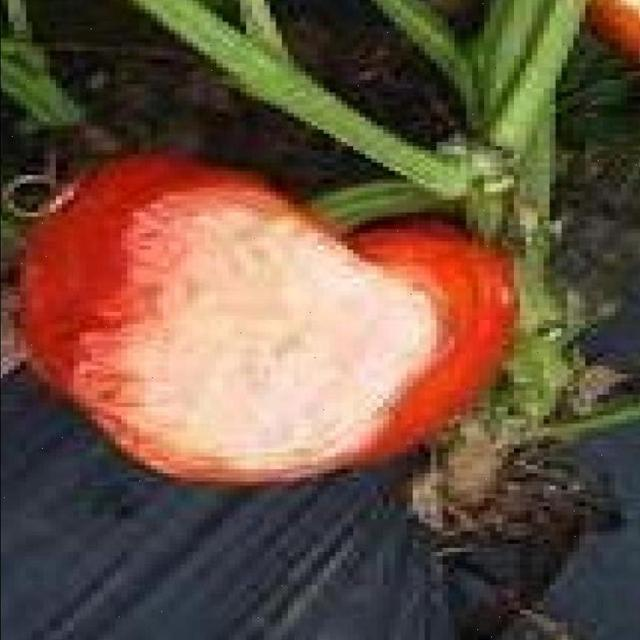Sunscald Fruit: (52, 121, 303, 317)
